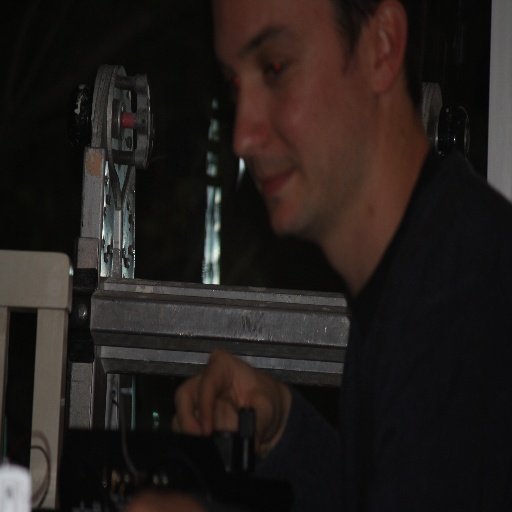hand: (161, 358, 287, 462)
